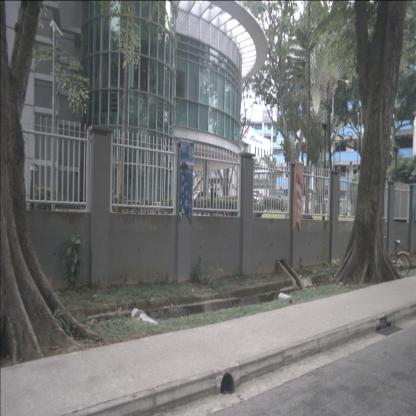vehicle-bicycle: (374, 235, 410, 278)
vehicle-car: (238, 189, 264, 211), (188, 190, 209, 208), (202, 190, 220, 206)
